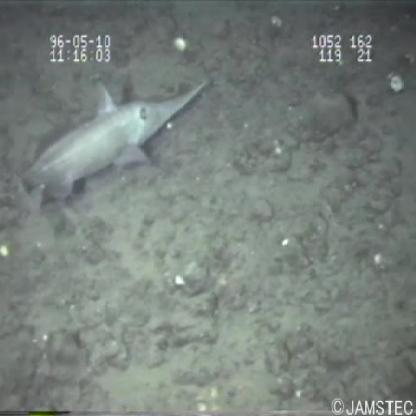Bio: (11, 70, 210, 226)
